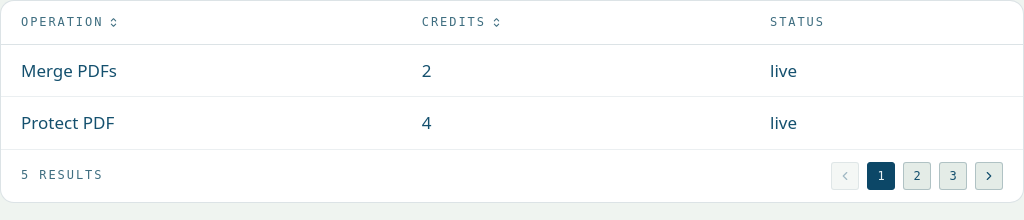
Test: DataTable — pagination › navigates to next page
The width and height of the screenshot is (1024, 220).
What coordinates should you click on to do the following:
click the button named "Next page"
I would click on:
 (989, 176)
Its box is 975,162 -> 1003,190.
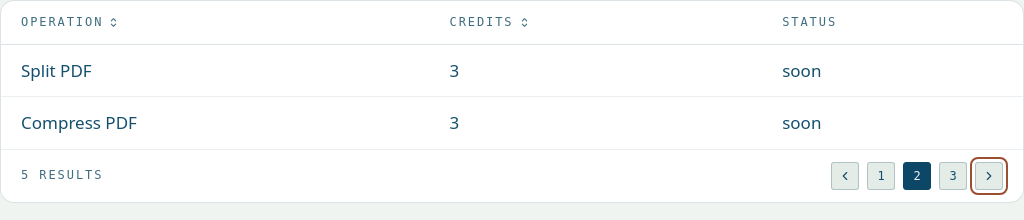
Now the text "Split PDF" is shown, box 1,45 -> 430,97
